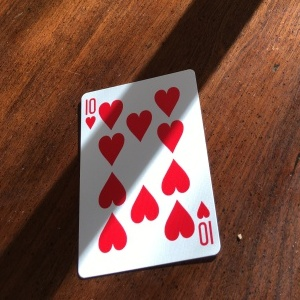card: (79, 70, 221, 275)
